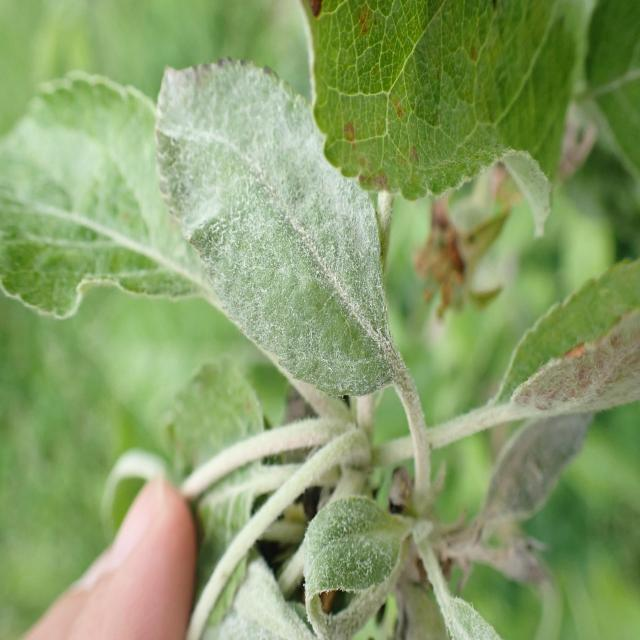Powdery_mildew: (136, 52, 414, 399), (472, 245, 640, 442), (277, 479, 420, 606), (424, 570, 516, 640)
